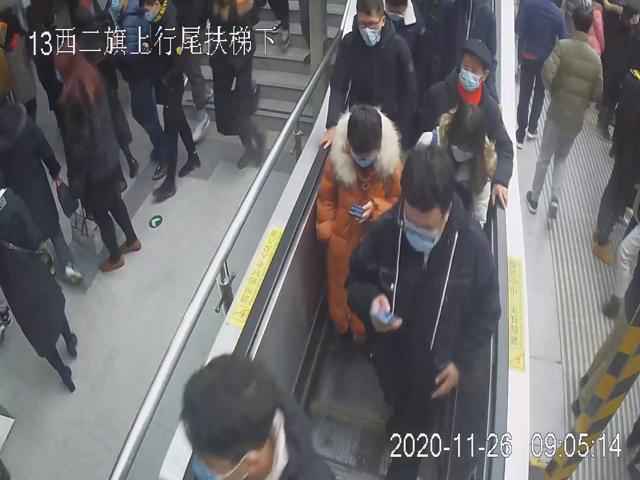person: (345, 142, 506, 479), (314, 98, 407, 357), (50, 40, 145, 274), (529, 0, 605, 228), (420, 36, 516, 208), (317, 0, 419, 151), (137, 0, 206, 204), (412, 97, 495, 247)
